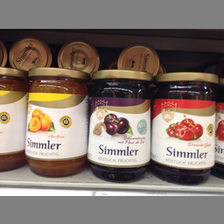jam: (150, 69, 218, 186), (23, 67, 90, 178), (88, 70, 153, 183)
